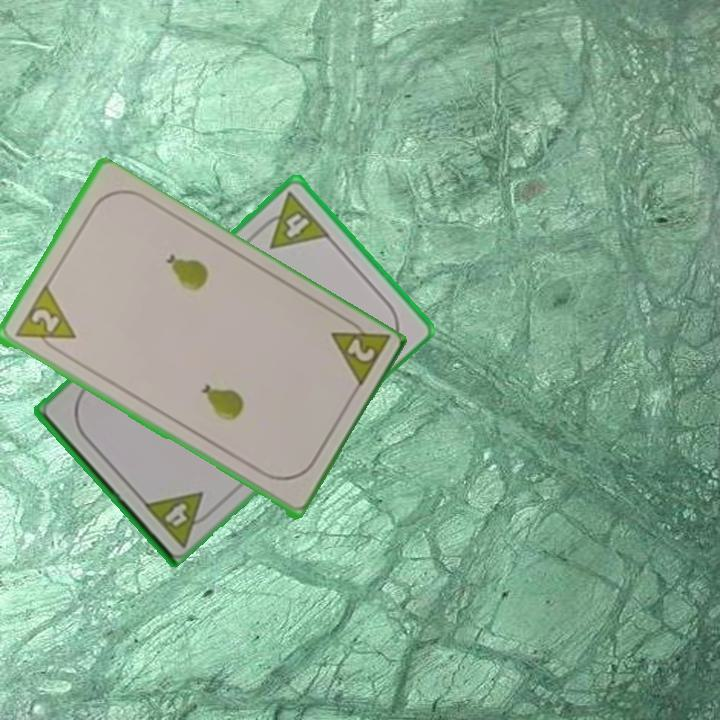2p: (326, 311, 392, 393), (10, 283, 78, 357)
4p: (252, 188, 333, 252), (139, 487, 219, 549)
